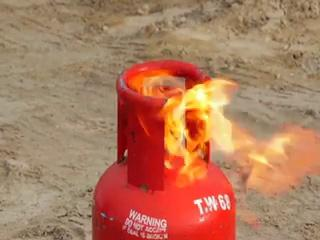Fire: (120, 48, 296, 188)
